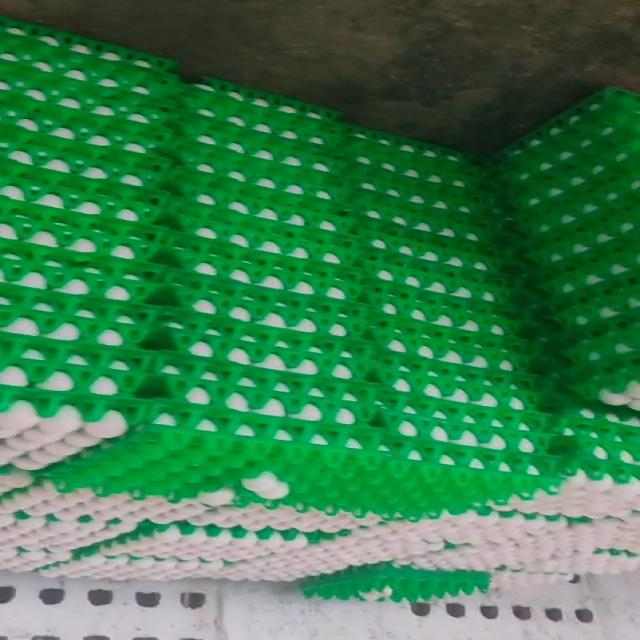egg_tray: (1, 294, 376, 468), (46, 401, 558, 517), (157, 285, 532, 416), (166, 279, 532, 408), (0, 253, 372, 378), (139, 322, 534, 425), (129, 304, 532, 391), (524, 127, 637, 405), (178, 193, 501, 289), (0, 483, 332, 575), (175, 191, 494, 285), (193, 206, 506, 300), (0, 285, 155, 468), (229, 510, 636, 579), (46, 404, 312, 504), (44, 508, 420, 578), (178, 264, 507, 342), (0, 181, 166, 332), (59, 517, 459, 579), (149, 315, 372, 423), (0, 470, 380, 533), (233, 400, 550, 474), (225, 512, 565, 580), (225, 511, 536, 580), (0, 135, 167, 259), (58, 261, 352, 331), (175, 221, 392, 315), (0, 178, 167, 299), (228, 203, 491, 279), (0, 179, 165, 300), (363, 294, 536, 409), (171, 85, 341, 202), (360, 249, 522, 370), (139, 343, 374, 426), (0, 184, 165, 299), (0, 74, 169, 186), (501, 90, 636, 230), (169, 204, 362, 299), (177, 251, 368, 340), (363, 265, 522, 370), (0, 477, 233, 548), (349, 199, 509, 302), (544, 240, 639, 404), (142, 313, 374, 380), (1, 204, 161, 300), (545, 241, 639, 404), (193, 189, 487, 241), (40, 523, 308, 580), (0, 218, 159, 312), (0, 486, 177, 570), (0, 317, 153, 414), (501, 88, 636, 197), (368, 283, 526, 376), (154, 269, 370, 337), (525, 198, 637, 326), (521, 148, 637, 271), (376, 395, 554, 475), (3, 483, 209, 551), (0, 467, 135, 570), (396, 507, 620, 569), (353, 212, 506, 302), (360, 294, 526, 376), (169, 126, 344, 203), (0, 75, 169, 153), (395, 507, 596, 570), (390, 325, 536, 410), (340, 125, 485, 209), (174, 116, 340, 189), (179, 126, 357, 193), (368, 340, 537, 410), (165, 504, 379, 559), (0, 136, 167, 206), (178, 79, 341, 150), (92, 521, 335, 568), (0, 60, 170, 126), (541, 220, 639, 334), (0, 31, 177, 94), (0, 279, 159, 349), (167, 131, 343, 194), (0, 197, 169, 261), (147, 487, 380, 533), (396, 535, 639, 579), (0, 386, 127, 469), (224, 530, 430, 581), (513, 132, 636, 217), (515, 182, 637, 267), (518, 177, 636, 264), (529, 199, 637, 294), (0, 126, 167, 187), (513, 440, 639, 520), (146, 489, 380, 532), (348, 220, 498, 287), (177, 110, 337, 172), (0, 334, 157, 396), (518, 180, 636, 262), (356, 217, 498, 285), (368, 280, 517, 344), (0, 99, 171, 153), (558, 310, 639, 423), (1, 240, 153, 300), (1, 489, 135, 557), (3, 17, 174, 70), (443, 504, 617, 556), (171, 191, 359, 239), (174, 154, 348, 203), (0, 174, 169, 224), (513, 455, 639, 520), (340, 140, 485, 196), (40, 553, 324, 581), (357, 141, 482, 203), (495, 520, 639, 573), (225, 542, 408, 583), (16, 52, 175, 99), (351, 193, 489, 246), (303, 563, 489, 602), (557, 410, 639, 498), (420, 507, 566, 556), (495, 470, 636, 520), (566, 312, 637, 410), (566, 314, 639, 407), (498, 126, 581, 207), (183, 78, 339, 121), (351, 187, 491, 234), (343, 141, 483, 188), (344, 124, 477, 173), (0, 512, 134, 559), (352, 200, 490, 245), (343, 175, 490, 215), (550, 267, 639, 333), (39, 550, 230, 580), (352, 169, 489, 210), (39, 553, 224, 580), (39, 553, 222, 580), (572, 439, 636, 514), (513, 537, 639, 574), (356, 564, 477, 600), (518, 540, 639, 574), (392, 257, 473, 305), (558, 401, 639, 441), (597, 360, 639, 410), (491, 568, 574, 593), (489, 568, 573, 592), (0, 547, 70, 570), (581, 548, 639, 574), (244, 472, 287, 496), (594, 548, 639, 570), (356, 581, 402, 601), (0, 467, 32, 495), (245, 512, 296, 528), (308, 432, 362, 447), (230, 298, 265, 320), (218, 103, 249, 126), (5, 272, 46, 288), (23, 318, 62, 334), (353, 585, 392, 601), (245, 474, 276, 492), (28, 185, 60, 201), (382, 298, 411, 315), (245, 474, 272, 492), (576, 541, 596, 565), (197, 216, 217, 236), (230, 267, 253, 283), (3, 307, 21, 326), (218, 414, 237, 431), (250, 476, 270, 492), (4, 470, 25, 485), (159, 510, 187, 521), (178, 145, 195, 163), (225, 507, 248, 520), (226, 232, 249, 245), (229, 202, 256, 213), (561, 537, 578, 554), (398, 272, 418, 286), (228, 510, 244, 526), (436, 309, 454, 323), (86, 267, 102, 282), (185, 206, 205, 217), (51, 330, 75, 339), (189, 241, 205, 254), (175, 238, 191, 251), (39, 321, 55, 334), (478, 572, 489, 590), (368, 249, 384, 261), (48, 372, 63, 384), (475, 398, 497, 406), (529, 494, 540, 509), (194, 257, 205, 271), (44, 263, 55, 277), (333, 514, 349, 523), (248, 567, 261, 578), (74, 312, 94, 319), (50, 197, 64, 207), (406, 194, 426, 201), (79, 198, 96, 206), (422, 591, 439, 599), (325, 282, 340, 291), (194, 300, 205, 312), (199, 166, 210, 178), (623, 154, 635, 164), (435, 312, 447, 322), (291, 184, 303, 194), (157, 571, 173, 578), (316, 189, 327, 199), (4, 367, 16, 376), (179, 338, 191, 347), (27, 288, 36, 300), (315, 410, 327, 419), (485, 273, 497, 282), (390, 346, 411, 351), (238, 270, 246, 283), (11, 202, 21, 212), (419, 590, 430, 599), (337, 561, 348, 570), (185, 360, 199, 367), (449, 367, 463, 374), (177, 176, 185, 188), (108, 325, 116, 337), (237, 88, 250, 95), (249, 572, 264, 578), (236, 177, 245, 187), (218, 297, 228, 306), (185, 120, 191, 135), (549, 172, 556, 184), (513, 185, 522, 194), (273, 280, 283, 288), (195, 243, 205, 251), (234, 269, 244, 277), (317, 166, 327, 174), (339, 410, 352, 416), (511, 401, 522, 408), (182, 505, 193, 512), (39, 560, 54, 565), (193, 279, 205, 285), (258, 258, 266, 267), (499, 364, 511, 370), (391, 338, 400, 346), (309, 154, 321, 160), (336, 289, 343, 299), (60, 334, 74, 339), (336, 328, 347, 334), (459, 291, 470, 297), (550, 562, 561, 568), (481, 292, 494, 297), (209, 265, 216, 274), (573, 562, 580, 571), (594, 568, 615, 571), (465, 300, 474, 307), (249, 574, 264, 578), (323, 256, 335, 261), (565, 282, 572, 290), (51, 251, 59, 258), (541, 539, 552, 544), (257, 297, 268, 302), (134, 571, 145, 576), (490, 285, 501, 290), (0, 37, 5, 48), (471, 321, 478, 328), (175, 322, 182, 329), (182, 282, 190, 288), (375, 286, 387, 290), (329, 411, 335, 419), (317, 191, 325, 197), (265, 160, 273, 166), (541, 150, 550, 155), (506, 160, 511, 169), (138, 563, 147, 568), (87, 323, 92, 332), (265, 241, 276, 245), (344, 593, 355, 597), (351, 281, 357, 288), (321, 267, 328, 273), (317, 273, 324, 279), (66, 258, 72, 265), (122, 261, 129, 267), (345, 550, 352, 556), (206, 110, 213, 116), (3, 563, 11, 568), (542, 163, 550, 168), (542, 149, 550, 154), (483, 294, 491, 299), (407, 594, 415, 599), (201, 113, 214, 116), (216, 572, 225, 576), (153, 265, 159, 271), (147, 264, 153, 270), (195, 303, 201, 309), (474, 531, 479, 538), (238, 298, 245, 303), (451, 329, 458, 334), (195, 505, 202, 510), (470, 273, 481, 276), (459, 529, 463, 537), (209, 290, 213, 298), (453, 310, 459, 315), (299, 514, 304, 520), (162, 562, 167, 568), (453, 398, 463, 401), (585, 139, 590, 145), (4, 54, 9, 60), (278, 153, 283, 159), (498, 559, 505, 563), (308, 285, 312, 292), (222, 289, 229, 293), (59, 570, 66, 574), (228, 572, 233, 577), (190, 290, 195, 295), (620, 93, 625, 98), (414, 361, 419, 366), (23, 168, 27, 174), (202, 394, 208, 398), (402, 387, 410, 390), (432, 380, 436, 386), (198, 244, 202, 250), (198, 162, 204, 166), (497, 504, 503, 508), (505, 364, 511, 368), (530, 498, 534, 504), (485, 274, 489, 280), (78, 318, 84, 322), (530, 538, 538, 541), (309, 592, 315, 596), (9, 329, 17, 332), (17, 568, 29, 570), (556, 574, 562, 578), (384, 439, 390, 443), (367, 267, 370, 274), (605, 127, 612, 130), (447, 270, 454, 273), (506, 160, 510, 165), (185, 361, 189, 366), (256, 243, 261, 247), (212, 200, 217, 204), (423, 212, 427, 217), (517, 347, 521, 352), (301, 290, 311, 292), (185, 206, 190, 210), (169, 297, 173, 302), (345, 592, 349, 597), (234, 251, 238, 256), (281, 184, 285, 189), (283, 420, 285, 429), (447, 547, 453, 550), (558, 489, 561, 495), (394, 347, 400, 350), (92, 261, 98, 264), (208, 498, 214, 501), (445, 594, 451, 597), (562, 544, 568, 547), (250, 111, 256, 114), (70, 178, 76, 181), (198, 341, 202, 345), (241, 569, 245, 573), (177, 272, 181, 276), (287, 208, 295, 210), (566, 543, 570, 547), (327, 285, 329, 293), (264, 253, 268, 257), (574, 507, 578, 511), (3, 564, 7, 568), (312, 542, 317, 545), (519, 531, 524, 534), (565, 568, 570, 571), (232, 117, 237, 120), (161, 553, 174, 554), (150, 344, 154, 347), (67, 398, 71, 401), (357, 529, 363, 531), (632, 406, 636, 409), (209, 267, 212, 271), (108, 574, 114, 576), (84, 314, 90, 316), (441, 309, 445, 312), (347, 419, 351, 422), (414, 143, 418, 146), (498, 505, 502, 508), (569, 512, 574, 514), (114, 225, 119, 227), (83, 550, 88, 552), (380, 233, 383, 236), (336, 516, 339, 519), (491, 322, 494, 325), (506, 158, 510, 160), (142, 532, 146, 534), (112, 292, 114, 296), (380, 316, 382, 320), (578, 401, 582, 403), (356, 505, 360, 507), (105, 198, 107, 202), (451, 554, 455, 556), (546, 546, 548, 550), (209, 376, 213, 378), (269, 273, 273, 275), (197, 176, 201, 178), (593, 500, 595, 504), (282, 424, 284, 428), (4, 302, 8, 304), (285, 322, 287, 326), (116, 406, 119, 408), (549, 270, 552, 272), (195, 511, 197, 514), (25, 292, 27, 295), (550, 544, 552, 547), (211, 208, 213, 211), (104, 342, 110, 343), (64, 318, 66, 321), (451, 289, 454, 291), (273, 96, 276, 98), (590, 535, 592, 538), (416, 269, 418, 272), (416, 303, 418, 306), (196, 209, 198, 212), (439, 314, 441, 317), (478, 336, 479, 341), (592, 275, 594, 277), (523, 151, 525, 153), (238, 424, 240, 426), (182, 501, 186, 502), (50, 172, 54, 173), (400, 524, 402, 526), (193, 362, 194, 366), (191, 286, 193, 288), (141, 205, 143, 207), (21, 191, 23, 193), (435, 522, 437, 524), (246, 382, 248, 384), (329, 288, 331, 290), (268, 280, 270, 282), (261, 278, 263, 280), (307, 276, 308, 280), (443, 255, 445, 257), (532, 202, 534, 204), (175, 246, 177, 248), (129, 321, 131, 323), (124, 313, 126, 315), (202, 300, 204, 302), (28, 256, 32, 257), (44, 202, 46, 204), (514, 187, 516, 189), (560, 554, 561, 558), (524, 151, 526, 153), (376, 287, 380, 288), (36, 314, 40, 315), (102, 338, 103, 342), (123, 319, 125, 321), (150, 308, 151, 312), (321, 133, 323, 135), (265, 117, 267, 119), (538, 251, 540, 253), (580, 234, 582, 236), (195, 306, 197, 308), (119, 460, 121, 462), (123, 451, 125, 453), (348, 402, 350, 404), (519, 356, 521, 358), (353, 183, 355, 185), (404, 141, 408, 142), (157, 517, 158, 520), (296, 383, 297, 386), (470, 307, 471, 310), (363, 459, 364, 462), (238, 265, 241, 266), (404, 389, 407, 390), (391, 580, 392, 583), (141, 540, 142, 542), (157, 518, 158, 520), (70, 217, 71, 219), (151, 516, 153, 517), (206, 401, 208, 402), (193, 396, 194, 398), (183, 378, 185, 379), (562, 402, 564, 403), (3, 75, 4, 77), (416, 212, 418, 213), (478, 363, 479, 365), (315, 535, 316, 537), (390, 230, 391, 232), (288, 500, 290, 501), (64, 193, 66, 194), (380, 461, 382, 462), (635, 523, 636, 525), (186, 257, 188, 258), (414, 240, 415, 242), (202, 267, 204, 268), (596, 511, 597, 513), (58, 264, 60, 265), (166, 363, 167, 365), (311, 314, 312, 316), (51, 573, 53, 574), (150, 344, 151, 346), (142, 262, 143, 264), (540, 186, 541, 188), (624, 133, 625, 135), (633, 98, 635, 99), (392, 367, 394, 368), (428, 571, 430, 572), (373, 290, 375, 291), (25, 293, 27, 294), (31, 332, 32, 334), (487, 389, 489, 390), (13, 331, 15, 332), (244, 318, 246, 319), (345, 308, 347, 309), (258, 176, 260, 177), (189, 162, 190, 164), (337, 241, 339, 242), (349, 322, 351, 323), (294, 322, 296, 323), (201, 309, 203, 310), (479, 276, 481, 277), (475, 276, 477, 277), (296, 120, 297, 122), (222, 151, 224, 152), (286, 150, 288, 151), (333, 593, 335, 594), (549, 165, 550, 166), (51, 212, 52, 213), (197, 573, 198, 574), (7, 165, 8, 166), (454, 269, 455, 270), (134, 213, 135, 214), (292, 378, 293, 379), (419, 562, 420, 563), (324, 198, 325, 199), (319, 196, 320, 197), (336, 282, 337, 283), (224, 496, 225, 497), (414, 409, 415, 410), (355, 345, 356, 346), (319, 109, 320, 110), (51, 194, 52, 195), (98, 339, 99, 340), (477, 325, 478, 326), (324, 314, 325, 315), (260, 118, 261, 119), (627, 236, 628, 237), (225, 311, 226, 312), (185, 147, 186, 148), (75, 492, 76, 493), (475, 276, 477, 276), (470, 276, 471, 276), (191, 514, 193, 514), (626, 412, 630, 412), (213, 334, 214, 334), (232, 272, 233, 272), (57, 310, 59, 310), (132, 292, 134, 292), (276, 510, 278, 510), (225, 252, 226, 252), (125, 328, 127, 328), (16, 328, 17, 328), (232, 578, 233, 578), (603, 316, 605, 316), (344, 532, 346, 532), (469, 336, 470, 336), (354, 138, 356, 138), (348, 590, 350, 590), (48, 172, 54, 172)
